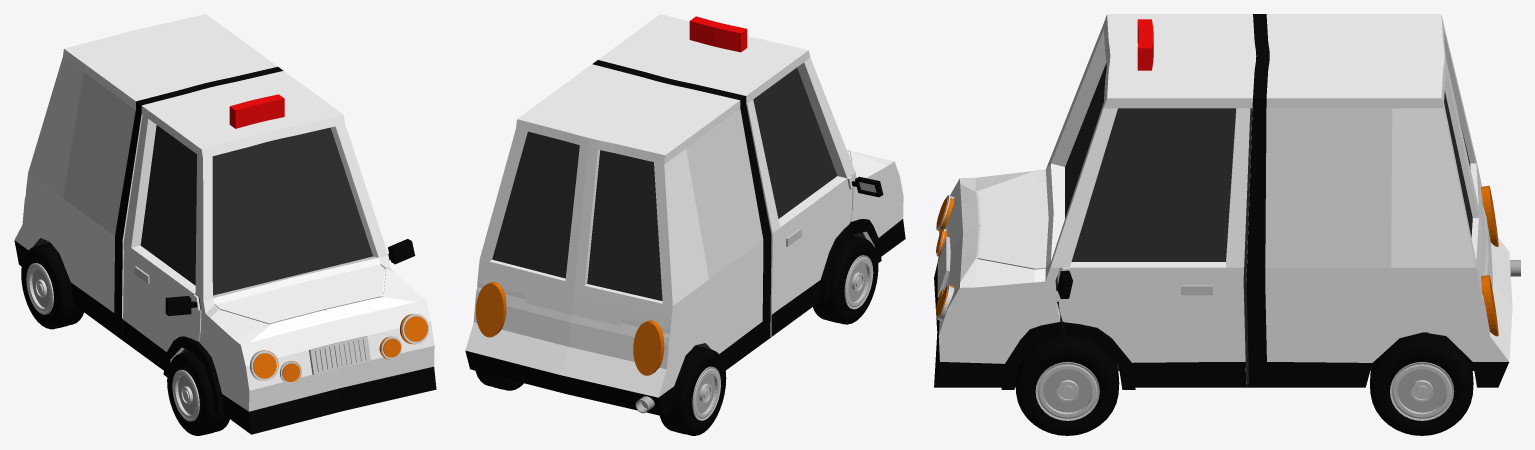
File: CR-BUS-5.fbx
3 renders of one model, left to right at view 1: azimuth 30°, elevation 25°; view 2: azimuth 150°, elevation 25°; view 3: azimuth 270°, elevation 25°, orthographic. The views are drawn at different scales.
Parts seen in each view (by area): view 1: BODY, WHEEL.004, WHEEL.001; view 2: BODY, WHEEL.004, WHEEL.001, WHEEL.002; view 3: BODY, WHEEL.002, WHEEL.003.
Part boxes in pixels (bbox=[...]): BODY: bbox=[14, 14, 436, 434]; WHEEL.004: bbox=[21, 242, 83, 329]; WHEEL.001: bbox=[167, 351, 229, 435]; BODY: bbox=[465, 14, 905, 416]; WHEEL.004: bbox=[660, 345, 726, 435]; WHEEL.001: bbox=[813, 235, 878, 324]; WHEEL.002: bbox=[475, 370, 523, 390]; BODY: bbox=[934, 14, 1512, 389]; WHEEL.002: bbox=[1370, 332, 1473, 435]; WHEEL.003: bbox=[1015, 336, 1119, 435].
Size of the model in its own units: 131 by 143 by 221.
